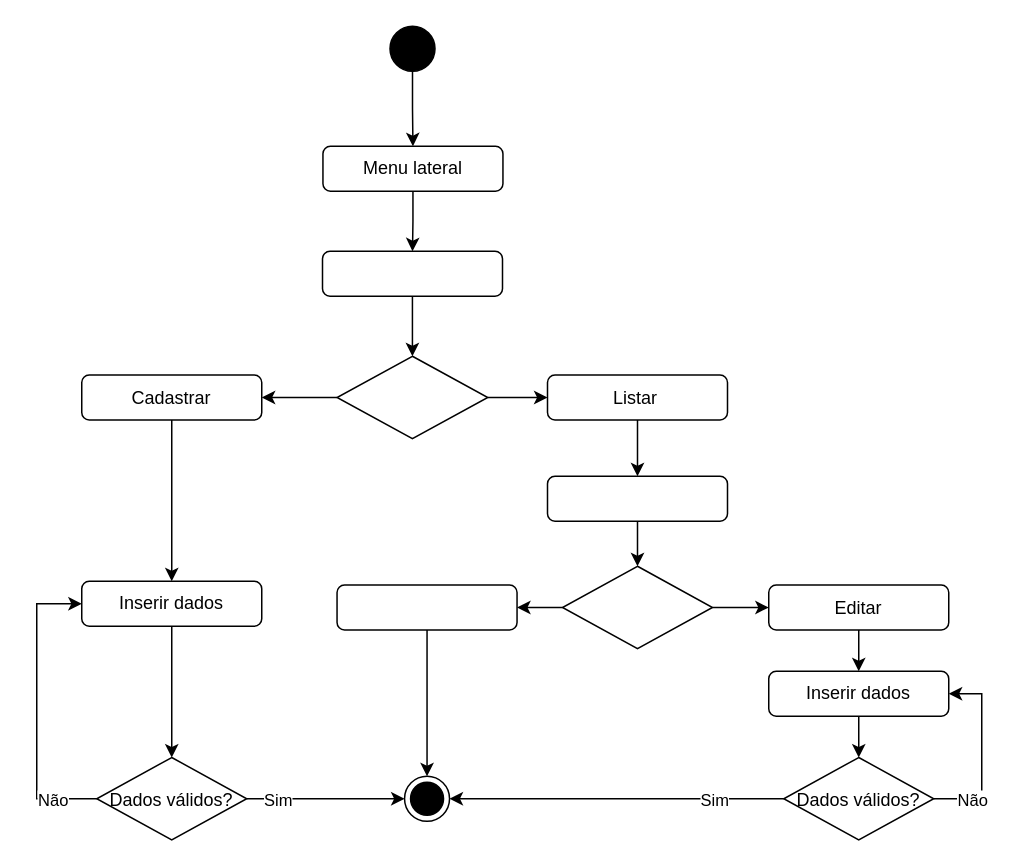
Image size: 1020x867. Some labels were removed from this diagram. Each missing label, with the box of its shape:
Condomínios: (321, 250, 502, 296)
Desativar: (336, 584, 517, 630)
Selecionar: (546, 475, 728, 521)
